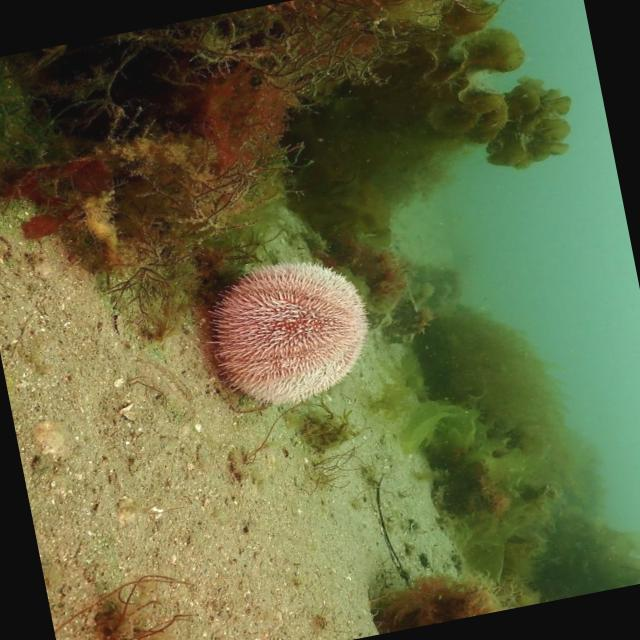Deniz Kestanesi: (196, 243, 384, 418)
